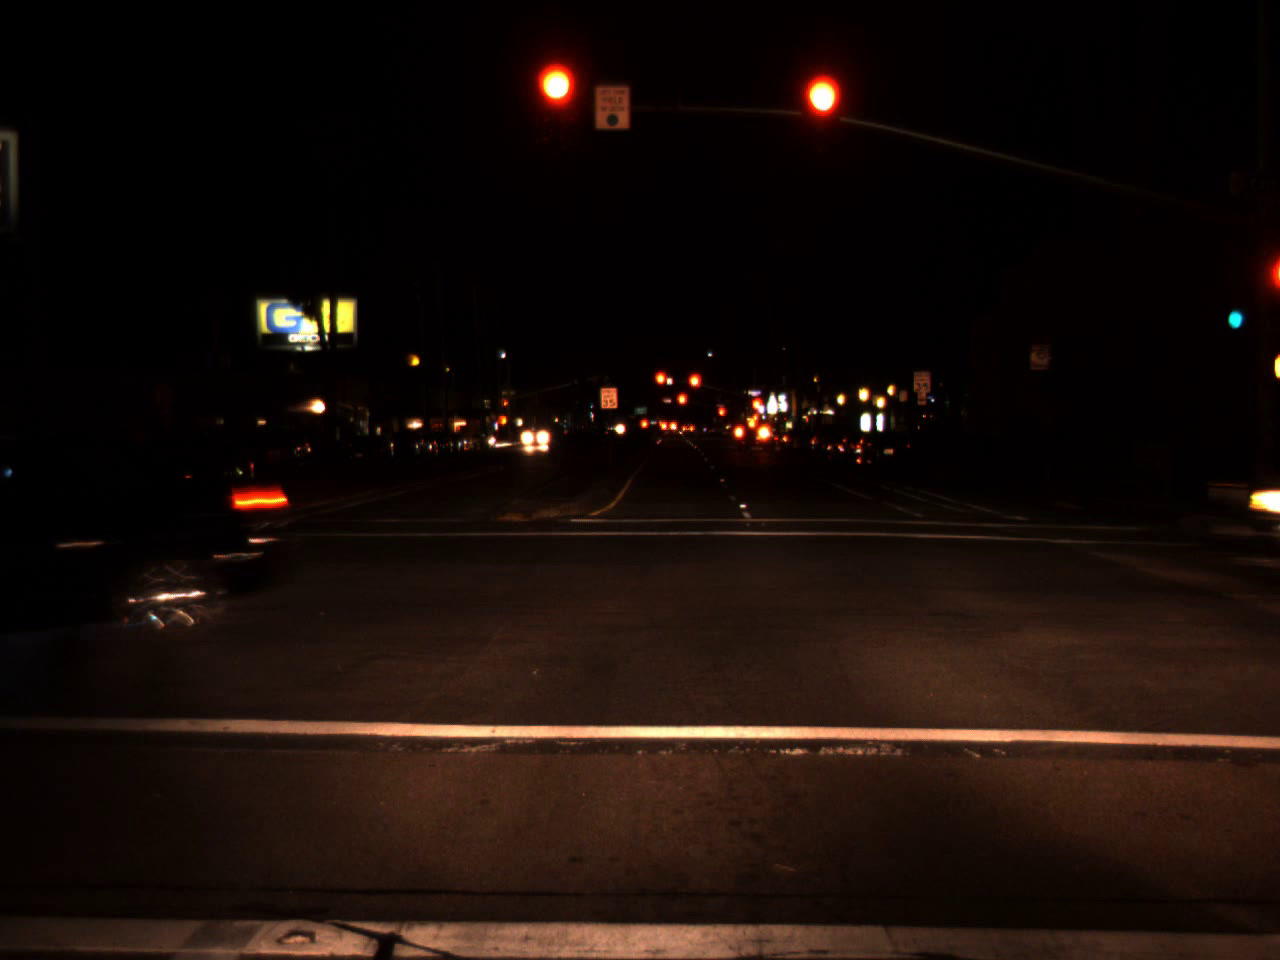stop: (537, 66, 577, 144), (801, 75, 841, 153), (653, 369, 668, 401), (675, 391, 688, 418), (689, 373, 699, 400), (750, 396, 763, 414), (717, 406, 726, 427), (503, 398, 509, 414)
